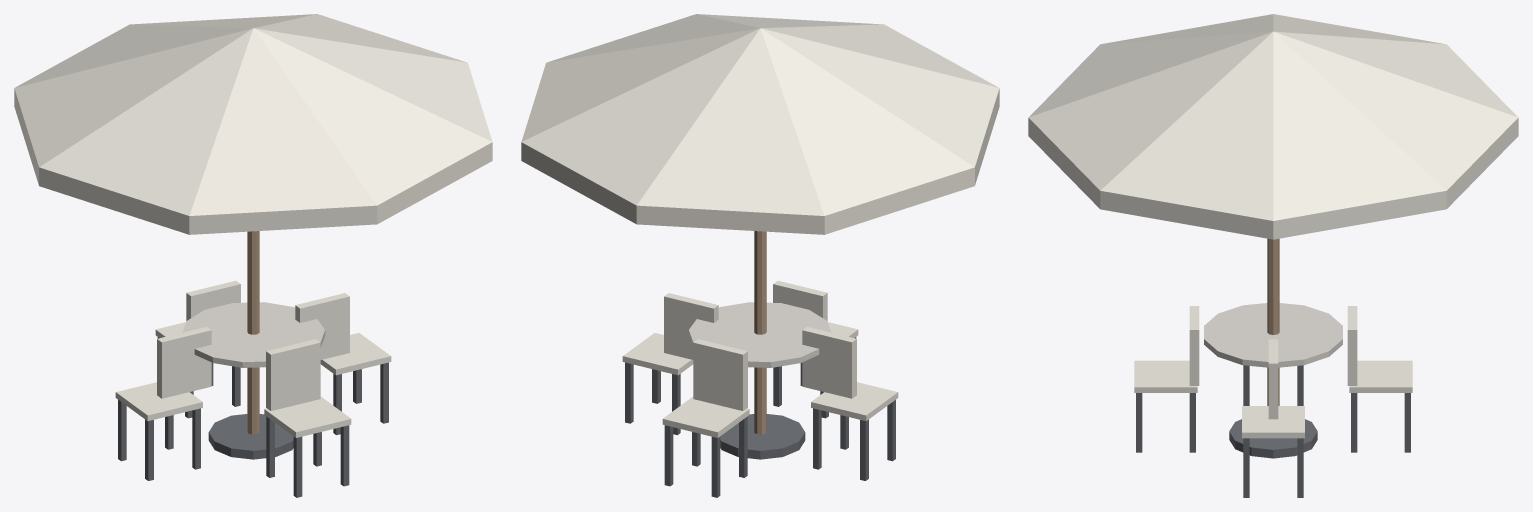
The model's file is cafe_dining_set.glb.
3 views of the same model, side by side, from view 1: azimuth 30°, elevation 25°; view 2: azimuth 150°, elevation 25°; view 3: azimuth 270°, elevation 25° (orthographic).
Visible parts, largest first — view 1: cafe_dining_set; view 2: cafe_dining_set; view 3: cafe_dining_set.
Boxes of the visible parts, x1,y1,x2,y2 form: cafe_dining_set: (14, 14, 492, 497); cafe_dining_set: (521, 14, 999, 497); cafe_dining_set: (1028, 14, 1518, 497).
Size of the model in its own units: 3.1 by 2.85 by 3.1.
